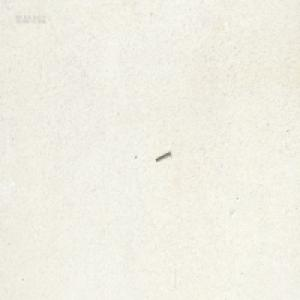Bolt: (154, 147, 170, 159)
